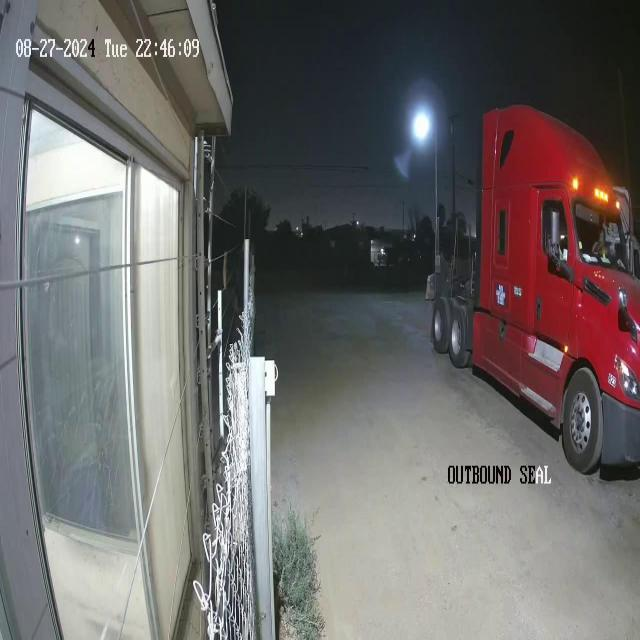TRUCK_IN: (428, 102, 639, 478)
